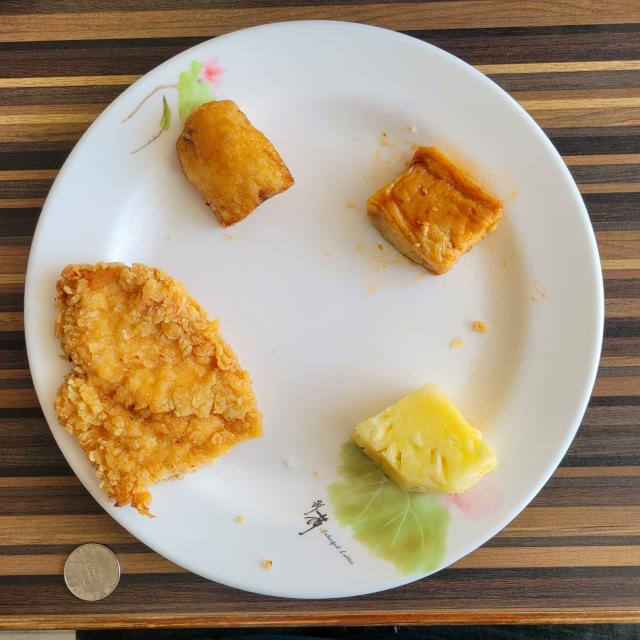coin: (64, 544, 120, 601)
creamy tofu: (366, 146, 502, 275)
fried chicken cutlet: (55, 262, 262, 518)
fried potato: (176, 100, 294, 228)
pineapple: (351, 382, 498, 494)
